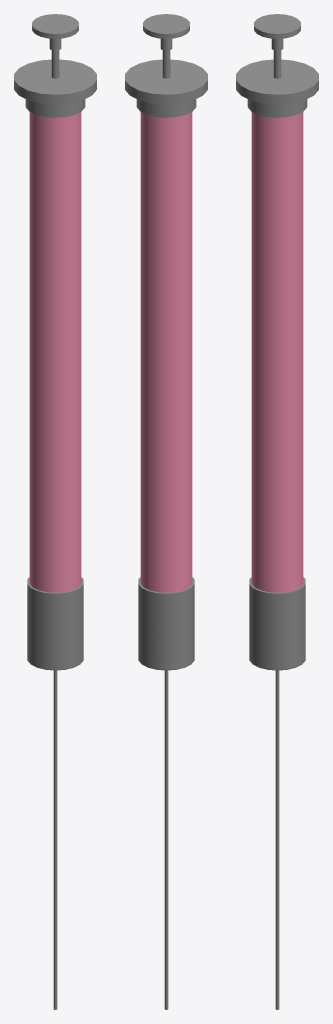
Rendered from syrings1.FBX.
3 views of the same model, side by side, from view 1: azimuth 30°, elevation 25°; view 2: azimuth 210°, elevation 25°; view 3: azimuth 270°, elevation 25° (orthographic).
Parts seen in each view (by area): view 1: Cylinder005, Cylinder006; view 2: Cylinder005, Cylinder006; view 3: Cylinder005, Cylinder006.
Boxes of the visible parts, x1,y1,x2,y2 form: Cylinder005: (14,59,96,1009); Cylinder006: (32,14,78,78); Cylinder005: (125,59,207,1009); Cylinder006: (143,14,189,78); Cylinder005: (236,59,318,1009); Cylinder006: (254,14,300,78).
Size of the model in its own units: 390 by 5047 by 385.
